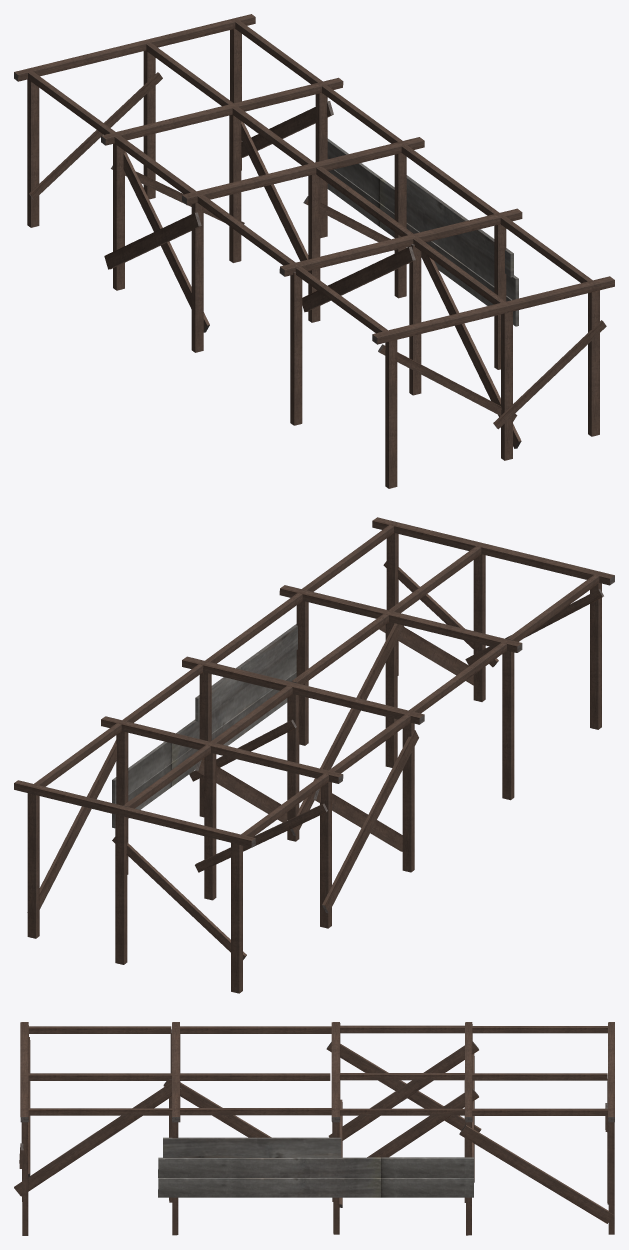
File: jov_Pier2e.fbx
The picture shows the model from 3 angles, top to bottom: view 1: azimuth 30°, elevation 25°; view 2: azimuth 150°, elevation 25°; view 3: azimuth 270°, elevation 25°; orthographic projection. The views are drawn at different scales.
Visible parts, largest first — view 1: jov_Pier2e; view 2: jov_Pier2e; view 3: jov_Pier2e.
Part boxes in pixels (x1,y1,x2,y2): jov_Pier2e: (14, 14, 614, 488); jov_Pier2e: (14, 517, 614, 993); jov_Pier2e: (14, 1022, 614, 1235).
Bounding box in the file's own units: 405 × 256 × 1085.
